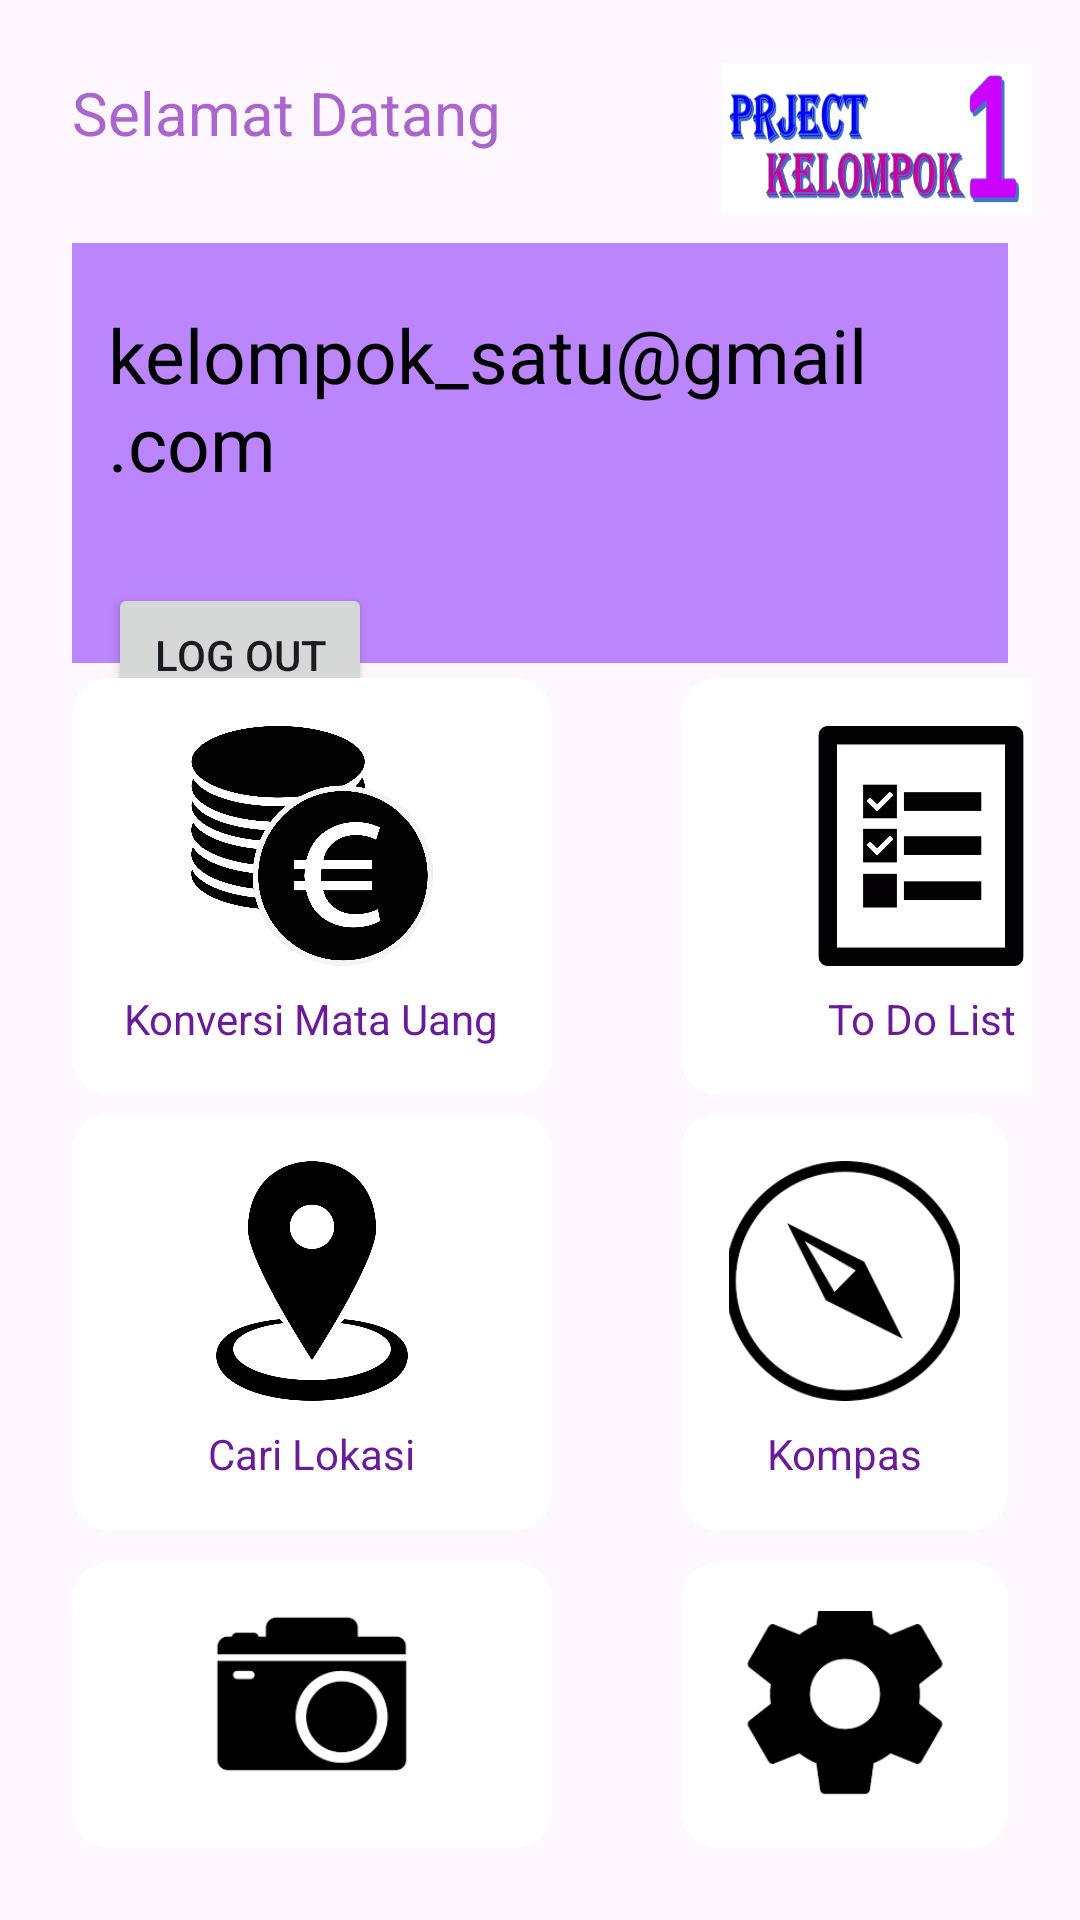

Named icons in this screenshot (1080px x 1920px) and their bounding boxes, (x1, y1, x2, y2):
euro: (191, 726, 428, 961)
kamera: (217, 1617, 407, 1771)
pengaturan: (747, 1611, 943, 1795)
